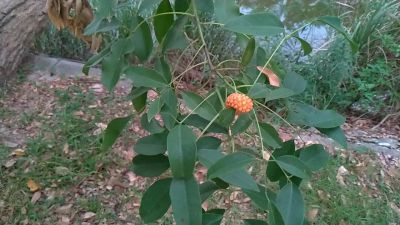eggs: (226, 89, 257, 115)
